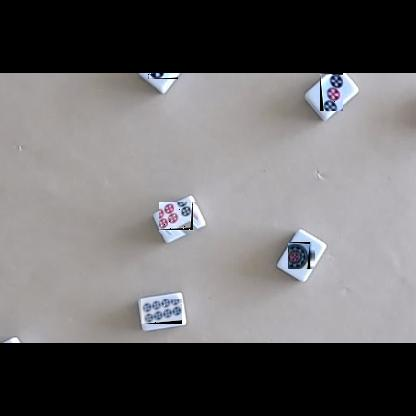1p: (289, 242, 315, 269)
2p: (148, 73, 178, 79)
3p: (320, 73, 343, 111)
6p: (160, 203, 198, 235)
8p: (141, 299, 182, 324)
